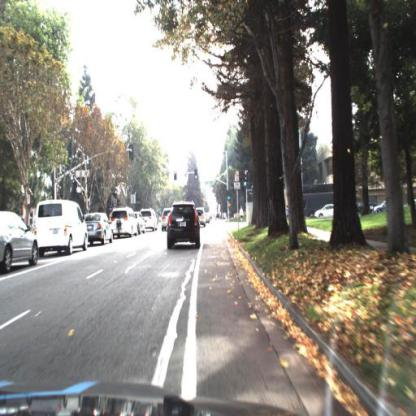car: (36, 198, 90, 260), (1, 211, 41, 271), (167, 197, 202, 254), (87, 212, 116, 246), (109, 206, 137, 238), (315, 204, 336, 220)
trafficLight-Green: (193, 167, 200, 184)
trafficLight-RedLeft: (173, 169, 178, 181)
